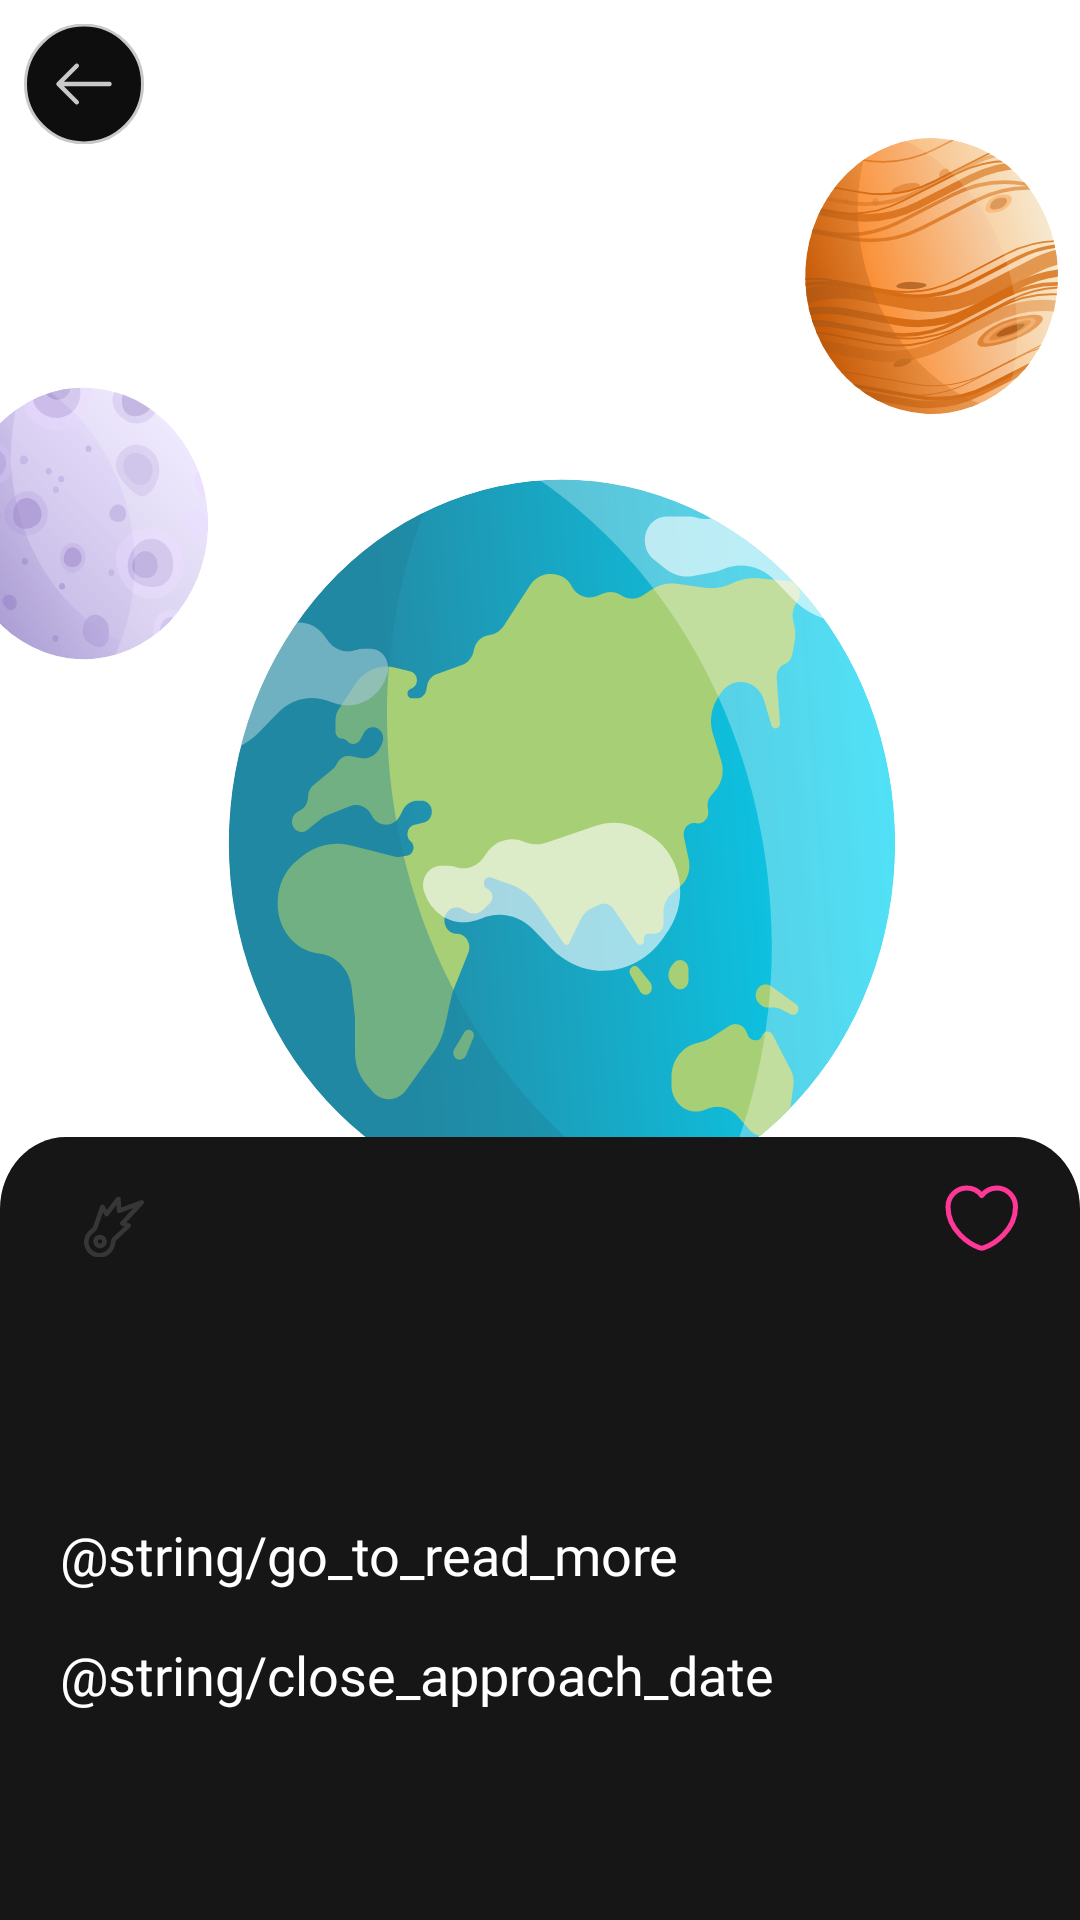

Where icons sit on this 1080px×1920px app screen, as (x1,y1,x2,y2):
comet: (84,1197,144,1257)
heart: (945,1185,1018,1251)
to home: (24,24,144,144)
